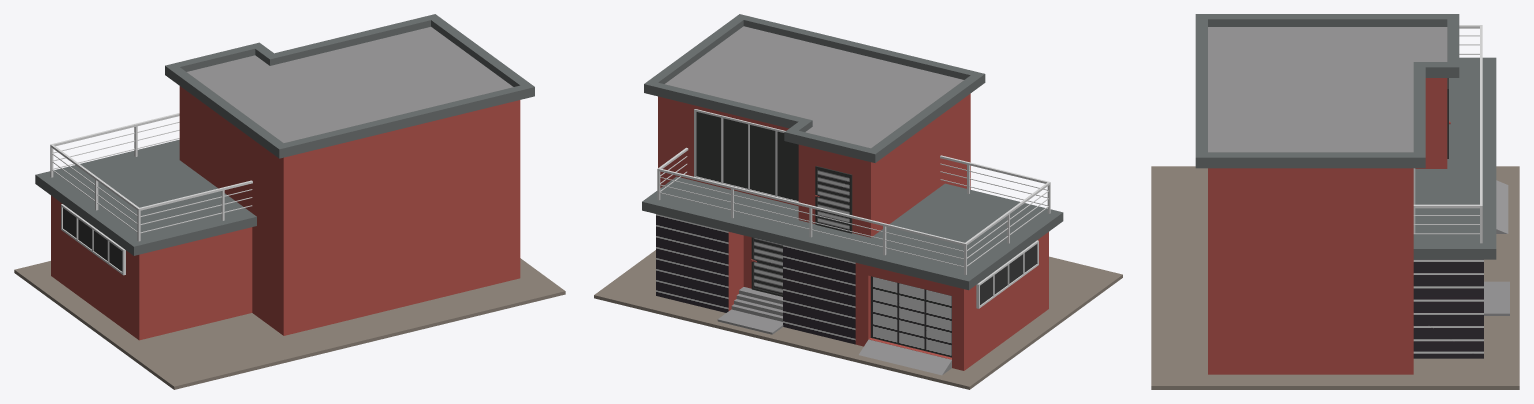
Rendered from Casa Vizinho Red 2.fbx.
3 renders of one model, left to right at view 1: azimuth 30°, elevation 25°; view 2: azimuth 150°, elevation 25°; view 3: azimuth 270°, elevation 25°, orthographic. The views are drawn at different scales.
Visible parts, largest first — view 1: Casa 2; view 2: Casa 2; view 3: Casa 2.
Boxes of the visible parts, x1=… form: Casa 2: x1=14, y1=14, x2=565, y2=389; Casa 2: x1=594, y1=14, x2=1122, y2=389; Casa 2: x1=1151, y1=14, x2=1519, y2=389.
Size of the model in its own units: 5221 by 2500 by 3691.
2 materials, 1 textured.
